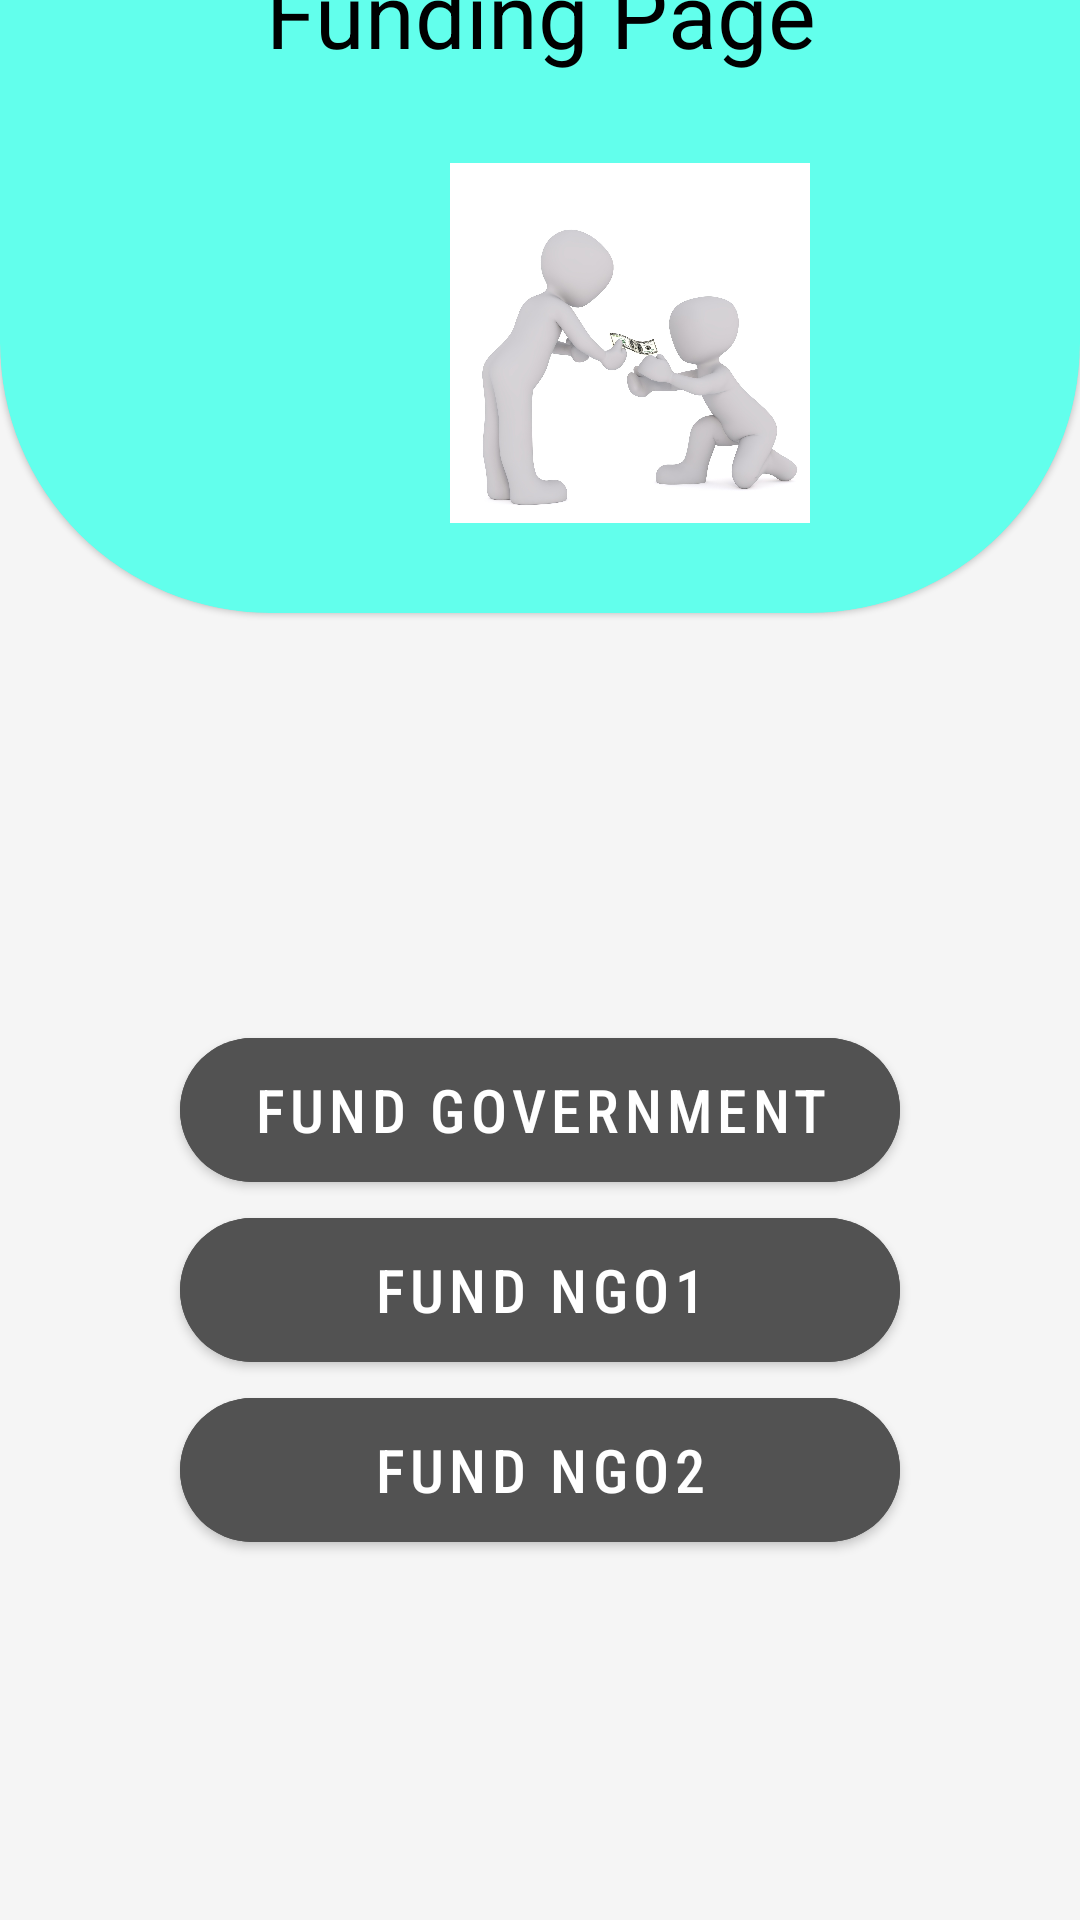

Point at icon controls on the screen. Image size 1080w x 1920h, points as point (x, y).
donation: point (630, 343)
